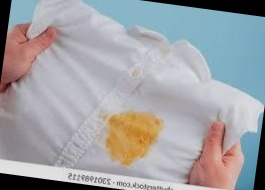mustard: (102, 108, 164, 169)
